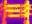Hotspot: (20, 0, 31, 23), (5, 3, 21, 8), (6, 9, 20, 13), (7, 15, 20, 17)
